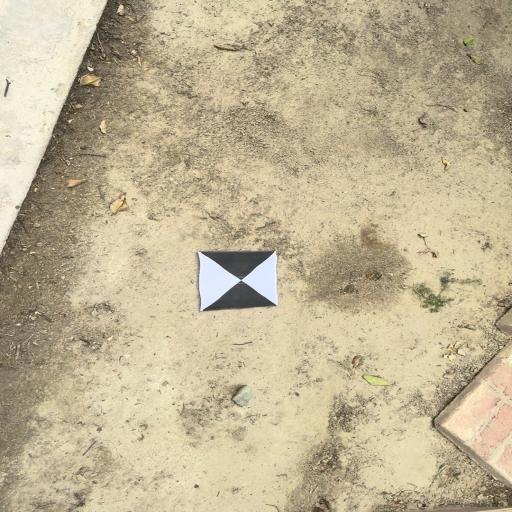target: (198, 252, 277, 307)
